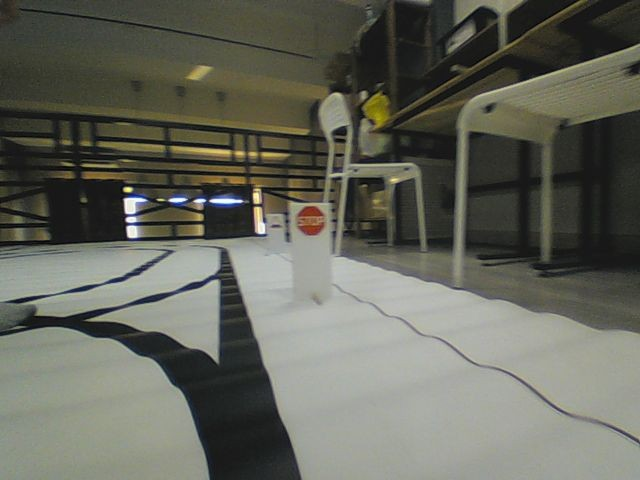Stop: (294, 204, 326, 237)
